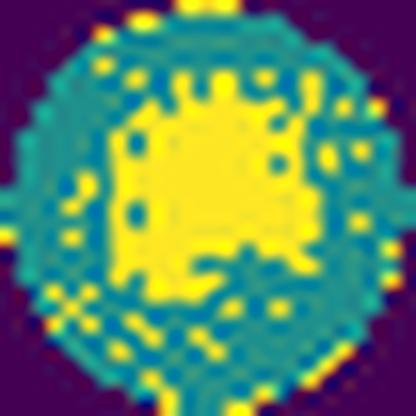Center: (109, 71, 324, 305)
